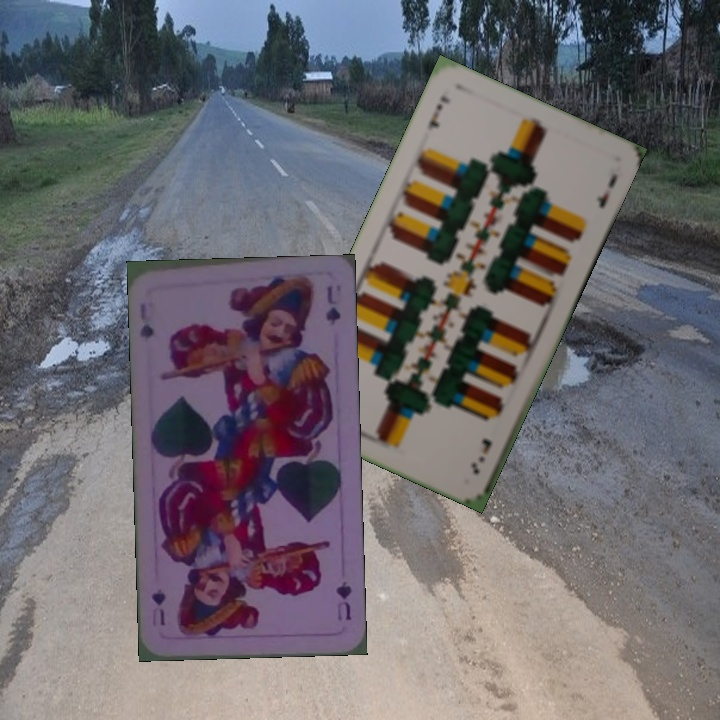E7: (423, 91, 453, 133), (467, 434, 495, 477)
GU: (332, 577, 355, 623), (136, 300, 157, 343)
